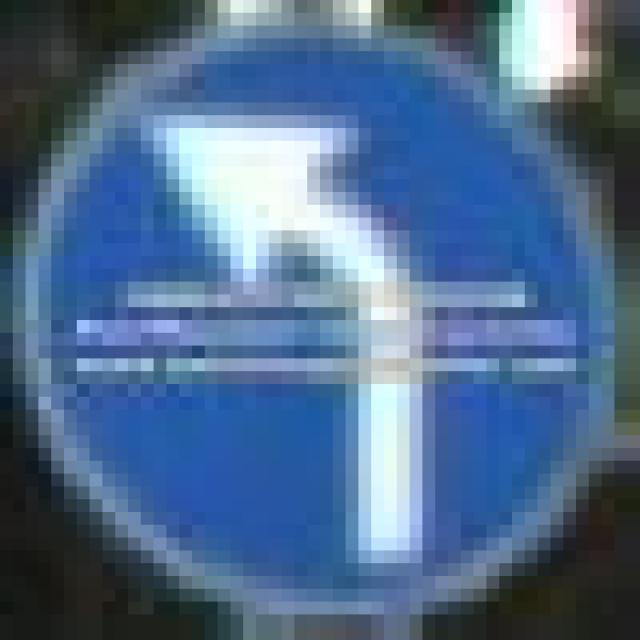compulsory_sound_horn: (0, 13, 589, 576)
